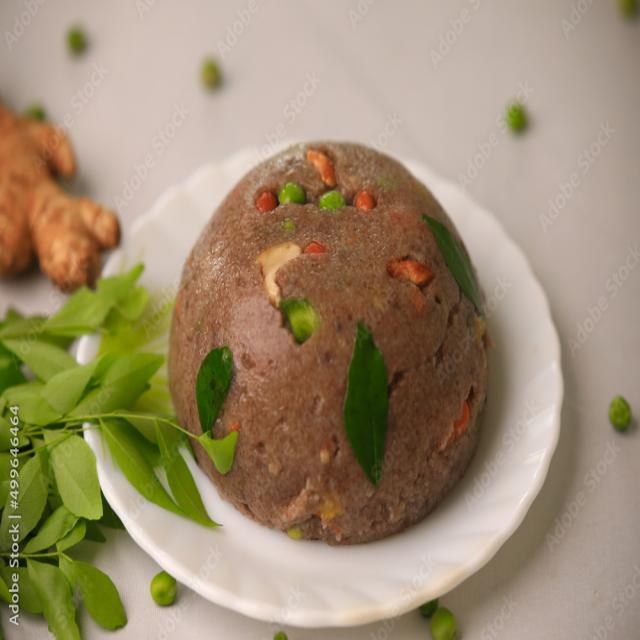UPMA: (170, 142, 488, 544)
